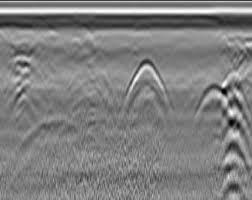hyperbola: (117, 56, 173, 118), (189, 78, 231, 123)
